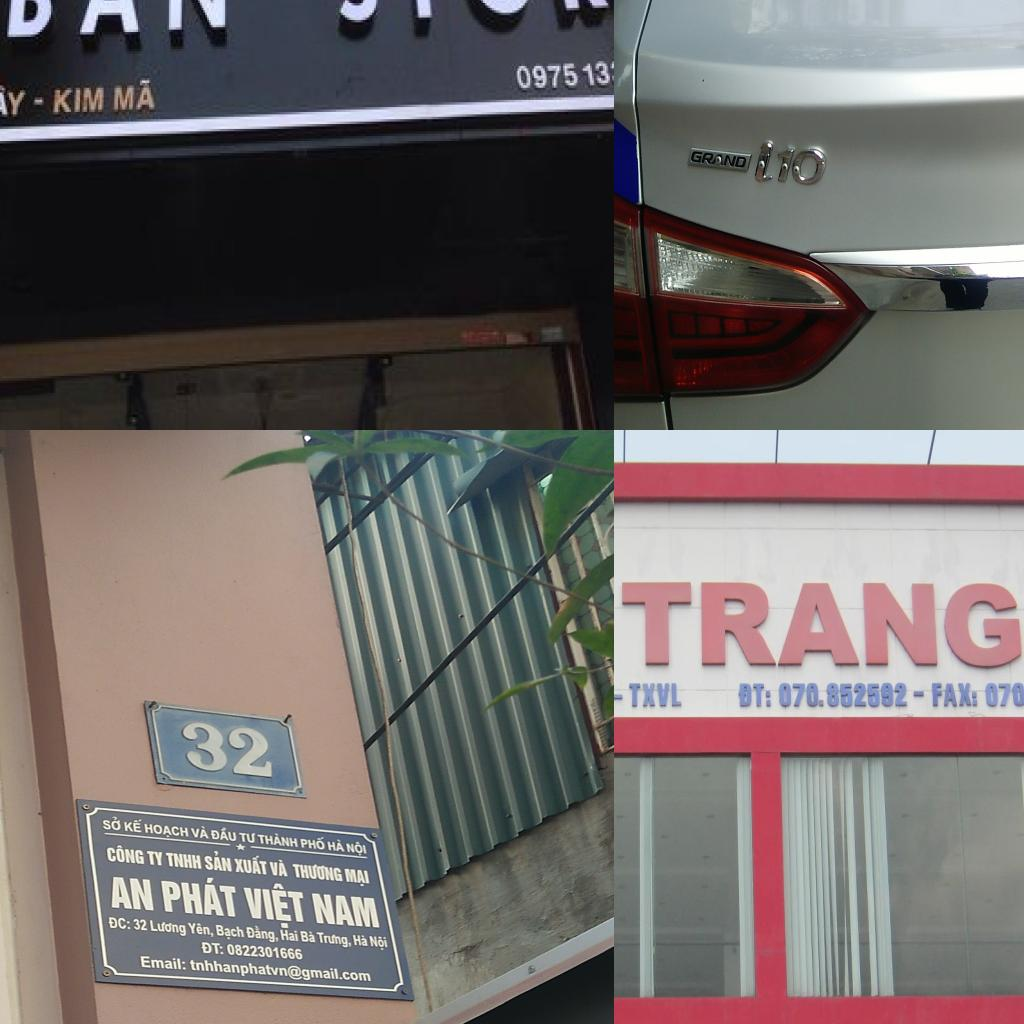text: (622, 579, 1024, 670), (0, 0, 234, 68), (327, 0, 614, 48), (178, 720, 274, 781), (512, 54, 614, 95), (778, 680, 910, 710), (159, 873, 240, 919), (752, 138, 829, 186), (241, 881, 310, 931), (310, 892, 381, 930), (111, 76, 163, 114), (0, 85, 52, 121), (53, 86, 107, 120), (110, 876, 156, 913), (627, 680, 685, 708), (931, 679, 980, 709), (225, 943, 305, 961), (736, 680, 775, 710), (291, 862, 344, 883), (689, 150, 747, 169), (103, 844, 146, 866), (137, 954, 188, 971), (256, 831, 300, 849), (144, 823, 190, 840), (233, 854, 268, 876), (165, 851, 202, 870), (202, 850, 232, 873), (150, 920, 187, 938), (244, 926, 280, 944), (343, 868, 372, 888), (316, 932, 352, 948), (215, 924, 245, 942), (186, 921, 214, 939), (208, 827, 238, 843), (299, 835, 326, 851), (198, 941, 226, 956), (107, 915, 132, 931), (269, 859, 290, 878), (345, 841, 368, 857), (189, 825, 211, 841), (368, 935, 390, 951), (145, 850, 164, 868), (101, 816, 122, 832), (123, 818, 143, 834), (326, 839, 346, 853), (280, 929, 300, 943), (238, 832, 257, 846), (132, 918, 149, 932), (300, 930, 316, 944), (352, 934, 368, 948), (911, 688, 926, 700), (614, 688, 624, 703)
